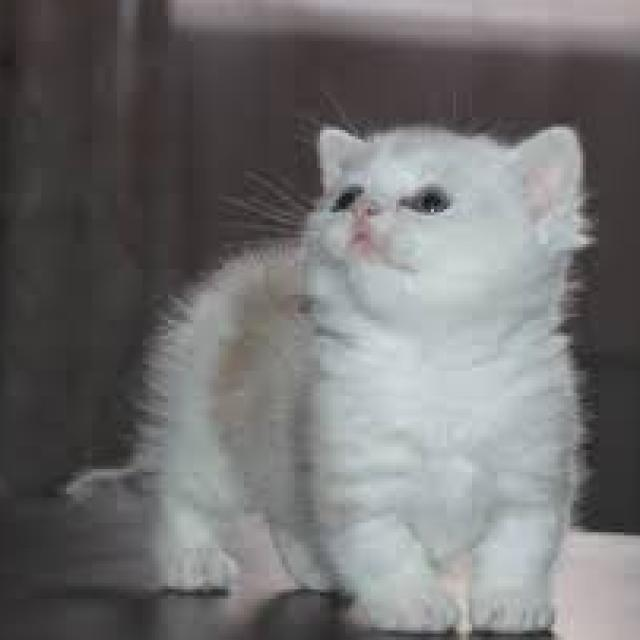Munchkin: (59, 113, 598, 640)
